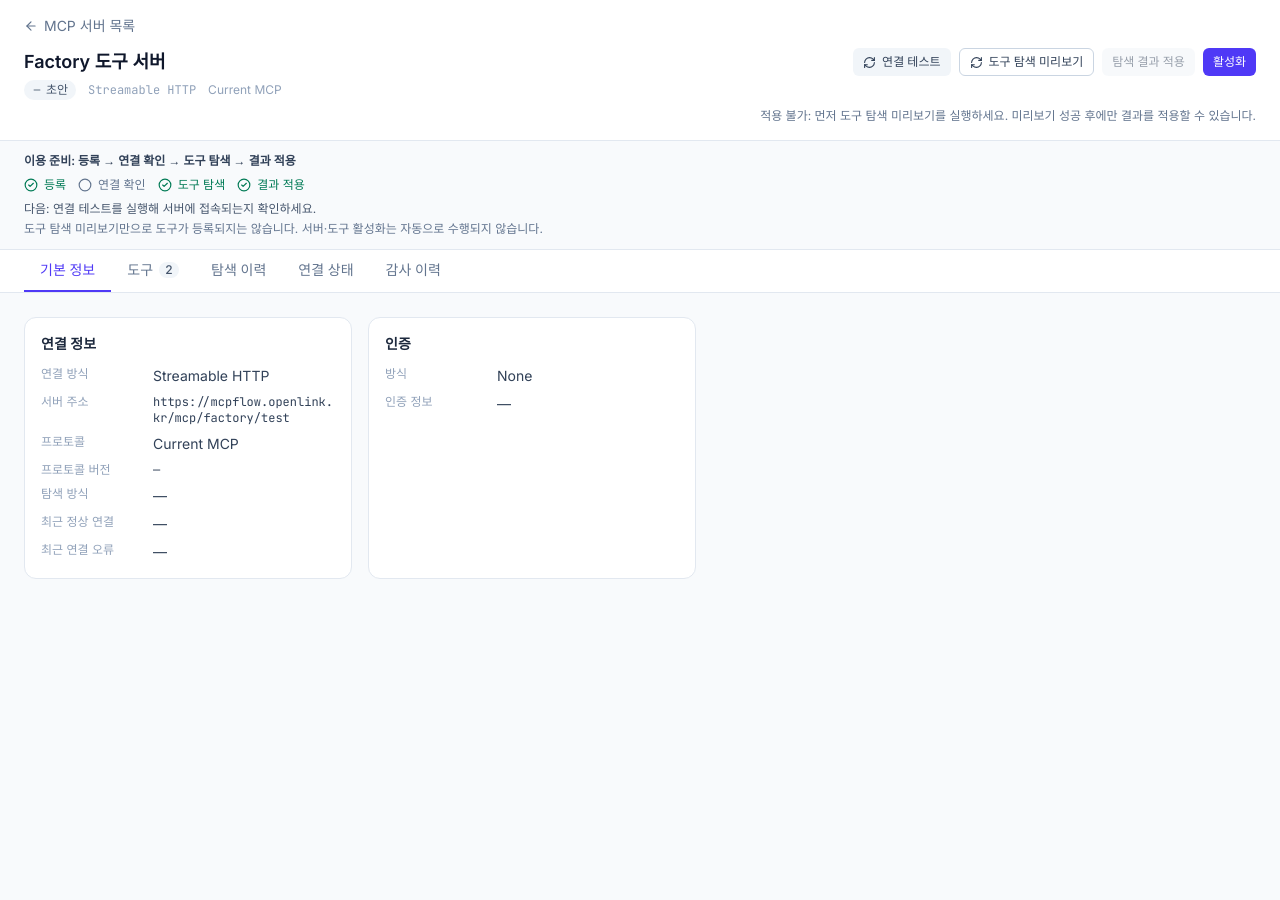
Factory Discovery contract evidence and apply fail-closed › renders AMBIGUOUS and blocks apply even when a legacy generic success flag is true
Expected: the heading "Factory 도구 서버" is shown, [24, 51, 166, 72]
What coordinates should you click on to do the following:
click the button "도구 탐색 미리보기"
I would click on:
 (1026, 62)
Its box is [958, 48, 1094, 76].
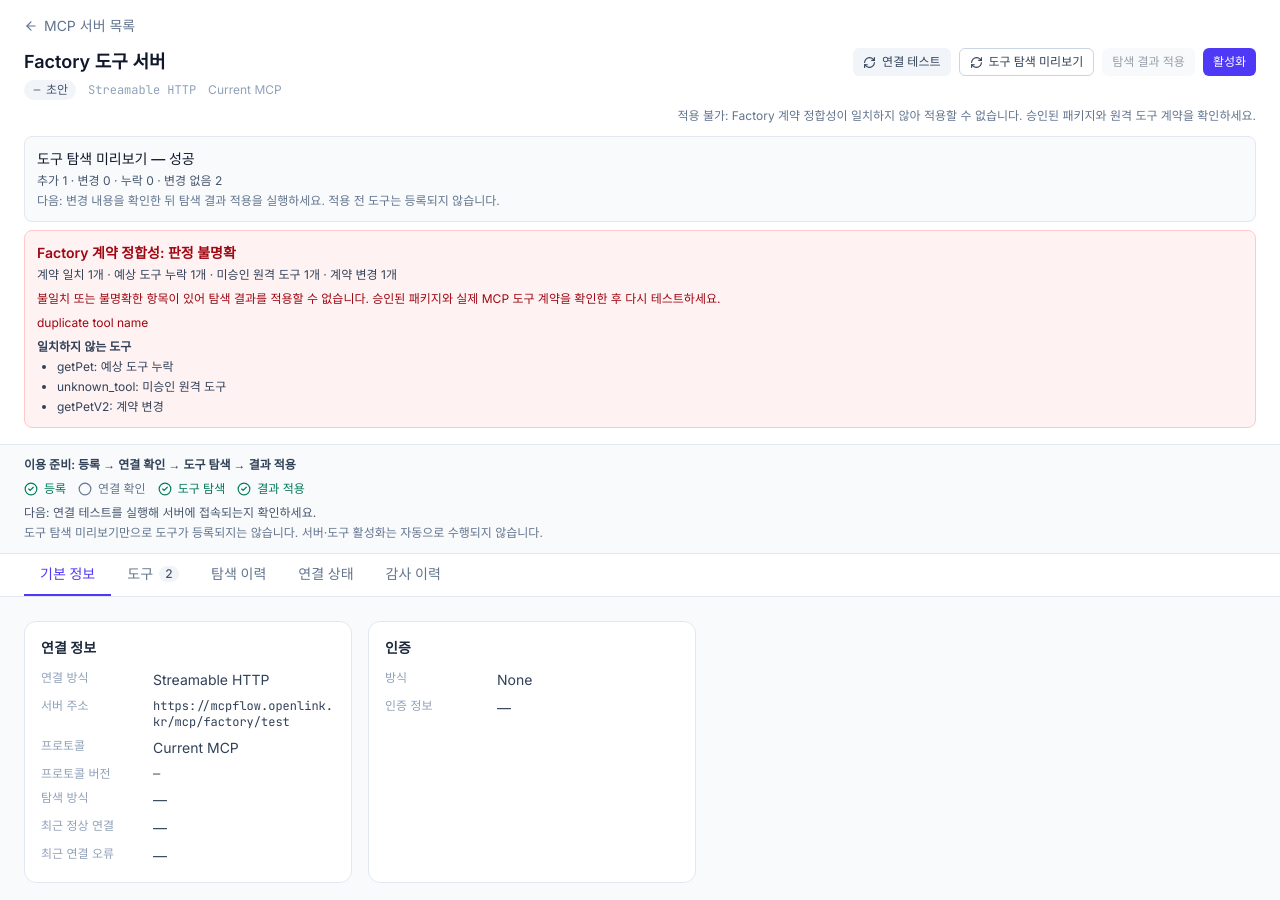
Expected: the button "탐색 결과 적용" is disabled, [1102, 48, 1195, 76]
Now the text "Factory 계약 정합성: 판정 불명확" is shown, box [37, 244, 236, 261]
